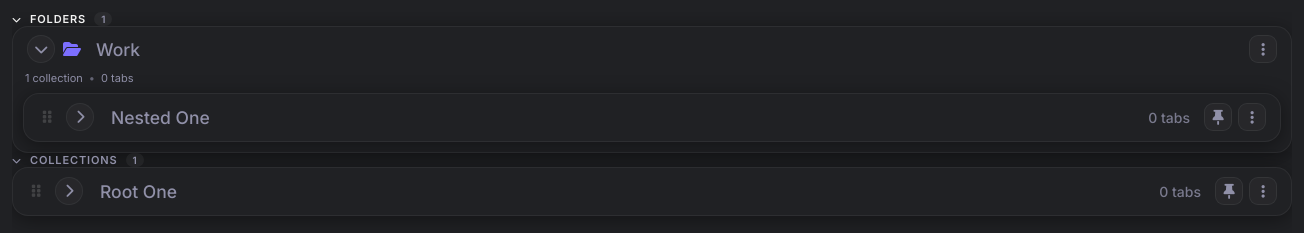
Test: CollectionList folders › folds a whole section away from its heading and back
Expected: the element with class "cc-folder" is shown, [12,26,1292,153]
Click the button with class "cc-section-toggle" showing "Folders 1" at (58,19), box [12,12,1292,26]
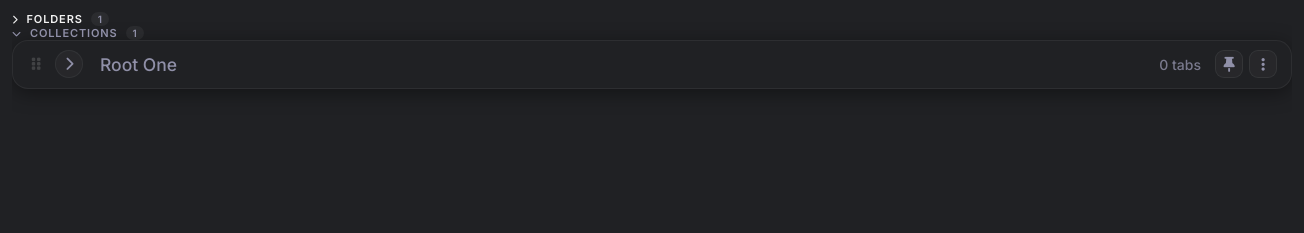
Expected: the 1st text with class "cc-section-count" reads "1", [98,13,102,25]
Expected: the button with class "cc-section-toggle" is collapsed
Expected: the element with class "cc-folder" is gone
Click the button with class "cc-section-toggle" showing "Folders 1" at (55,19), box [12,12,1292,26]
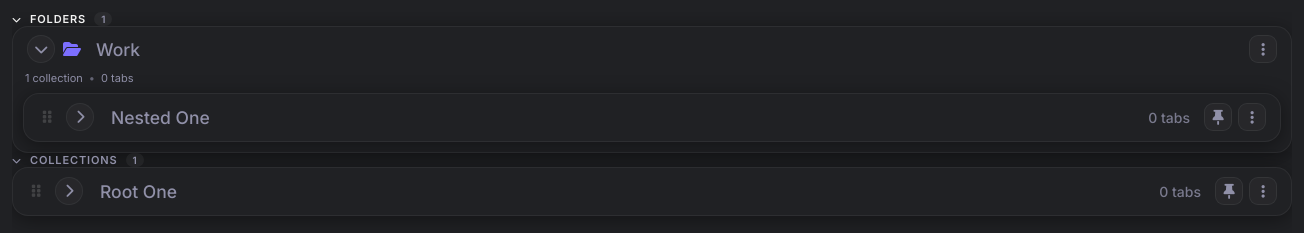
Expected: the element with class "cc-folder" is shown, [12,26,1292,153]
